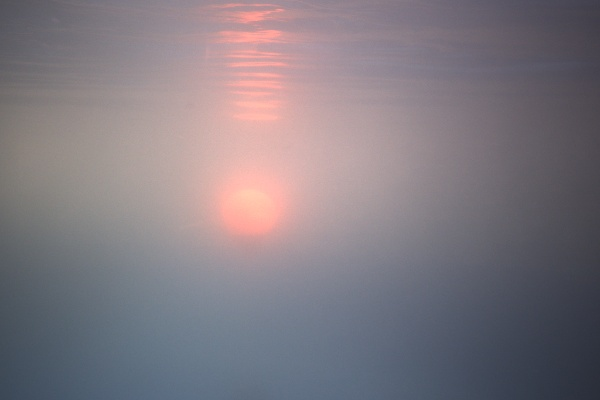buoy: (272, 162, 310, 204)
